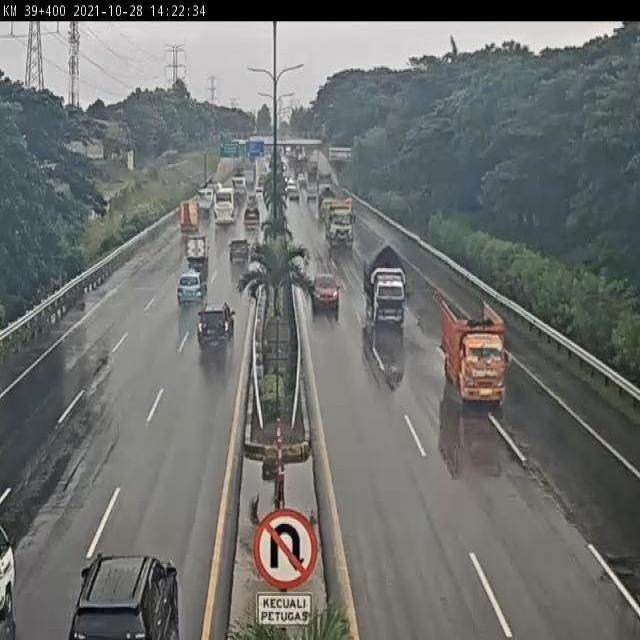car: (309, 266, 341, 310), (181, 230, 210, 270), (225, 233, 252, 268)
truck-l-: (320, 196, 355, 249)
truck-s-: (444, 299, 509, 405), (362, 241, 407, 328)
